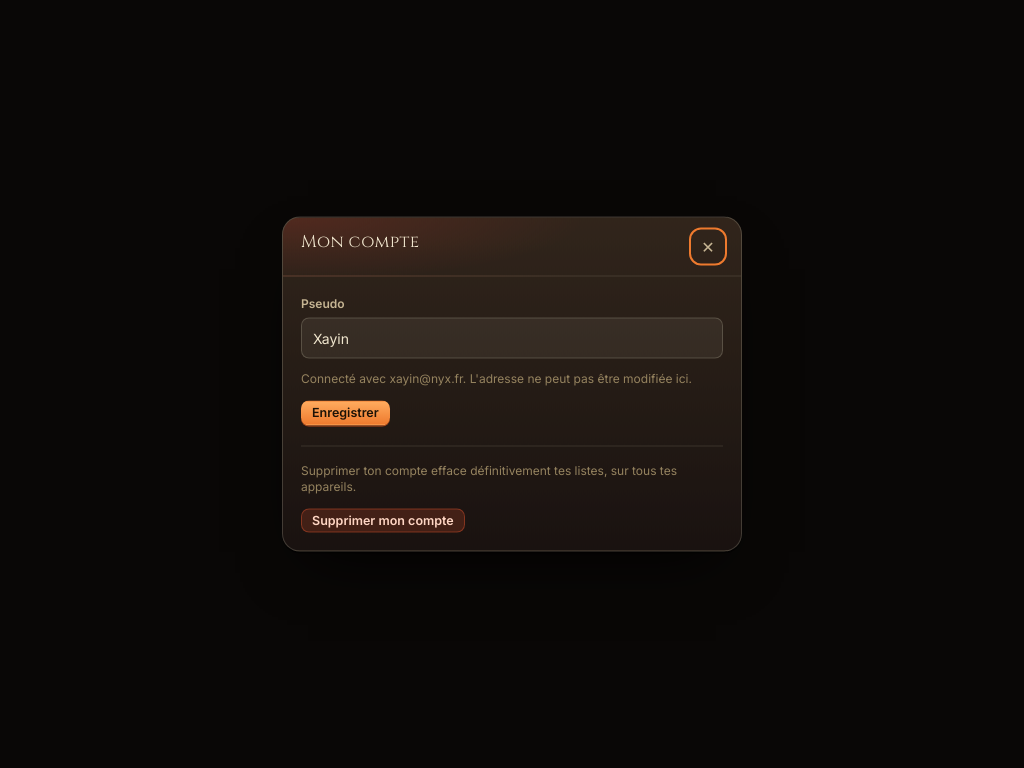
Scenario: AccountDialog › part du pseudo actuel et enregistre le nouveau
Replace the text in the field labelled "Pseudo" with "  Nyx  " at (512, 338), box [301,318,723,358]
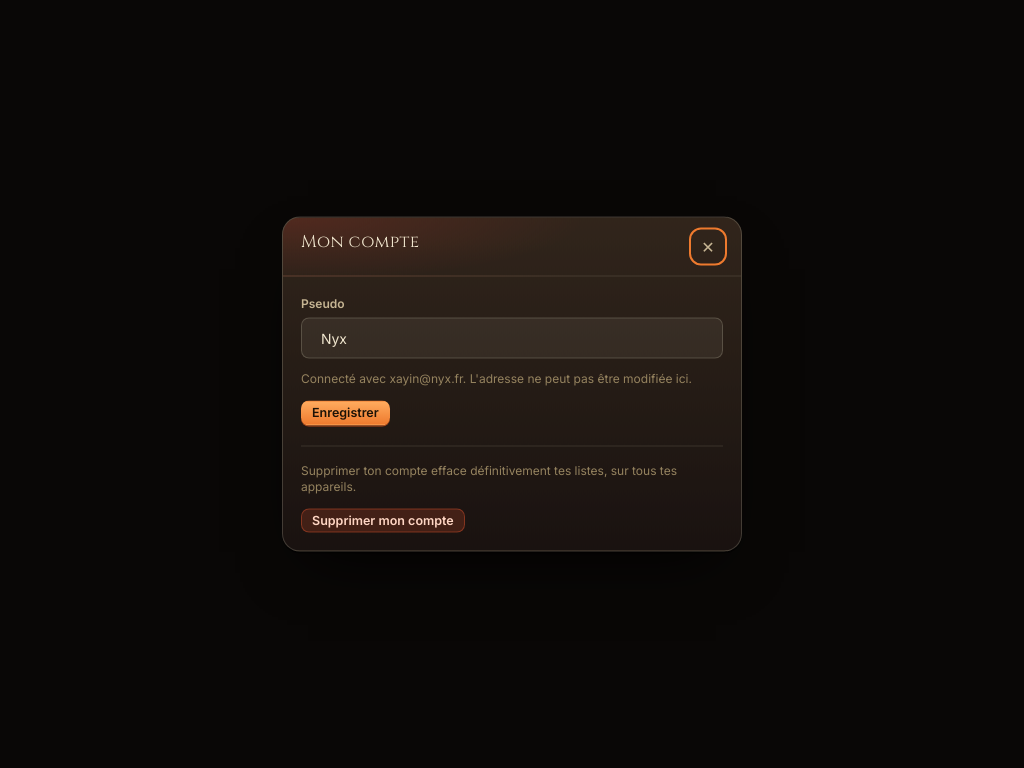
Click the button "Enregistrer" at (345, 413), box [301,400,390,425]
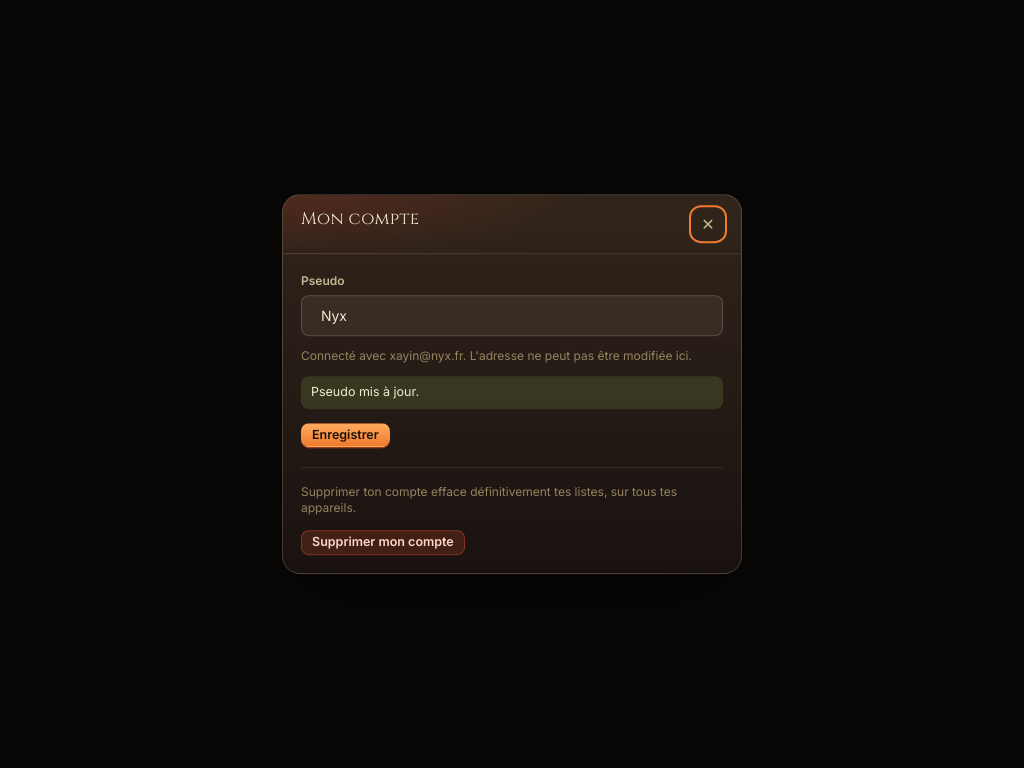
Now the text "Pseudo mis à jour." is shown, box [301,376,723,409]
